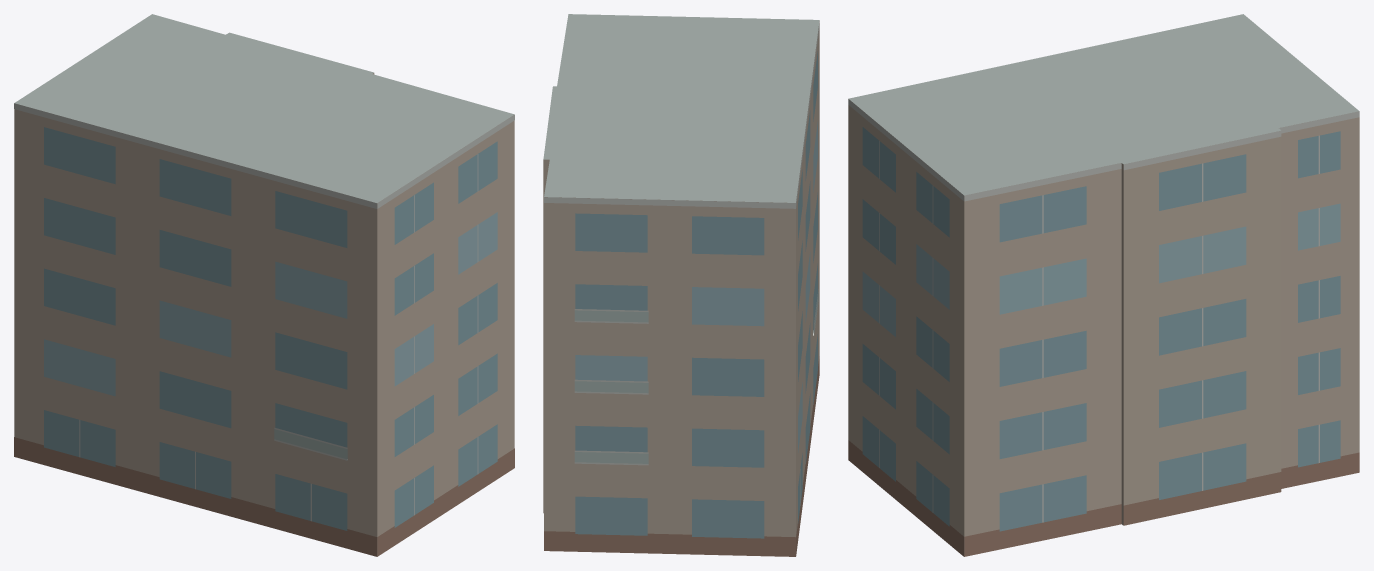
File: survey-upis-32837256.glb
The picture shows the model from 3 angles, left to right: view 1: azimuth 30°, elevation 25°; view 2: azimuth 150°, elevation 25°; view 3: azimuth 270°, elevation 25°; orthographic projection. The views are drawn at different scales.
Parts seen in each view (by area): view 1: survey-upis-32837256.tmp; view 2: survey-upis-32837256.tmp; view 3: survey-upis-32837256.tmp.
Boxes of the visible parts, left/top/right/bottom form: survey-upis-32837256.tmp: left=14, top=14, right=514, bottom=556; survey-upis-32837256.tmp: left=543, top=14, right=819, bottom=556; survey-upis-32837256.tmp: left=848, top=14, right=1359, bottom=556.
Bounding box in the file's own units: 15.84 × 14.7 × 18.86.
